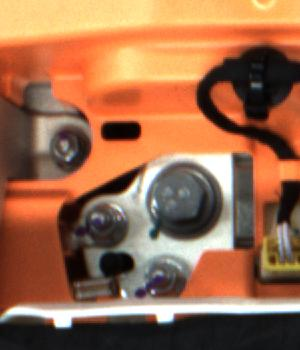nut_b: (141, 158, 229, 242)
screw_s: (140, 253, 185, 301), (88, 196, 125, 247), (47, 128, 86, 166)
